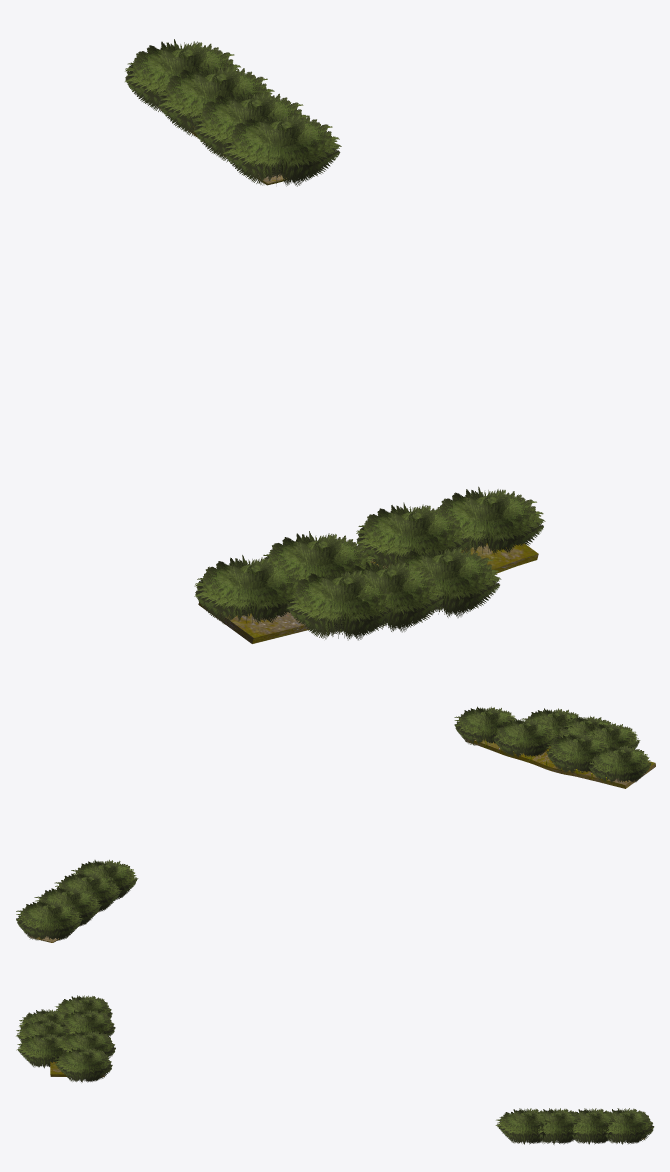
Rendered from tambahan.fbx.
The picture shows the model from 3 angles, top to bottom: view 1: azimuth 30°, elevation 25°; view 2: azimuth 150°, elevation 25°; view 3: azimuth 270°, elevation 25°; orthographic projection. The views are drawn at different scales.
Parts seen in each view (by area): view 1: semak 1.004, semak 1.009, semak 1.007, semak 1.005, semak spawn 1.006, semak 1.011, semak exit1.002, semak 1.001, semak 1.010, semak 1.003, semak 1.008, Tanah entrance; view 2: semak 1.001, semak spawn 1.006, semak 1.007, semak 1.008, semak 1.005, semak 1.003, Tanah entrance, semak exit1.002, semak 1.004, semak 1.009, semak 1.011, semak 1.010; view 3: semak 1.005, semak 1.001, semak 1.004, semak exit1.002, semak 1.003, semak 1.011, semak 1.008, semak spawn 1.006, semak 1.007, semak 1.010, semak 1.009.
Boxes of the visible parts, x1,y1,x2,y2 form: semak 1.004: [223, 113, 341, 186]; semak 1.009: [286, 569, 395, 640]; semak 1.007: [194, 555, 300, 625]; semak 1.005: [434, 486, 545, 554]; semak spawn 1.006: [356, 502, 469, 568]; semak 1.011: [396, 547, 501, 617]; semak exit1.002: [158, 63, 274, 138]; semak 1.001: [125, 39, 240, 112]; semak 1.010: [342, 559, 444, 632]; semak 1.003: [193, 89, 308, 163]; semak 1.008: [263, 531, 375, 581]; Tanah entrance: [198, 543, 538, 643]; semak 1.001: [16, 900, 83, 940]; semak spawn 1.006: [493, 718, 557, 757]; semak 1.007: [589, 745, 652, 783]; semak 1.008: [546, 733, 609, 773]; semak 1.005: [454, 706, 516, 745]; semak 1.003: [54, 872, 121, 911]; Tanah entrance: [465, 738, 655, 788]; semak exit1.002: [34, 886, 101, 926]; semak 1.004: [71, 859, 138, 899]; semak 1.009: [579, 722, 640, 749]; semak 1.011: [521, 708, 581, 741]; semak 1.010: [555, 715, 610, 739]; semak 1.005: [54, 1047, 112, 1082]; semak 1.001: [603, 1108, 654, 1144]; semak 1.004: [495, 1108, 550, 1144]; semak exit1.002: [568, 1108, 615, 1144]; semak 1.003: [534, 1108, 580, 1144]; semak 1.011: [16, 1033, 65, 1068]; semak 1.008: [61, 1009, 115, 1037]; semak spawn 1.006: [58, 1030, 115, 1058]; semak 1.007: [55, 995, 112, 1018]; semak 1.010: [16, 1019, 73, 1041]; semak 1.009: [19, 1009, 68, 1027].
Bounding box in the file's own units: 13803 × 1810 × 26192.
